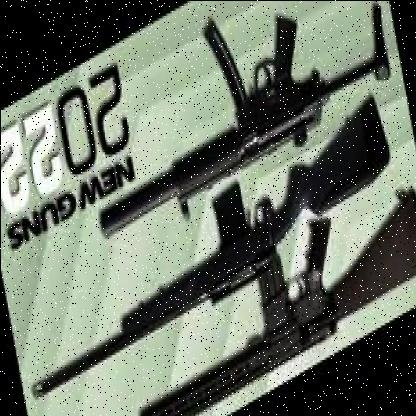rifle: (49, 183, 416, 416), (126, 0, 398, 228)
